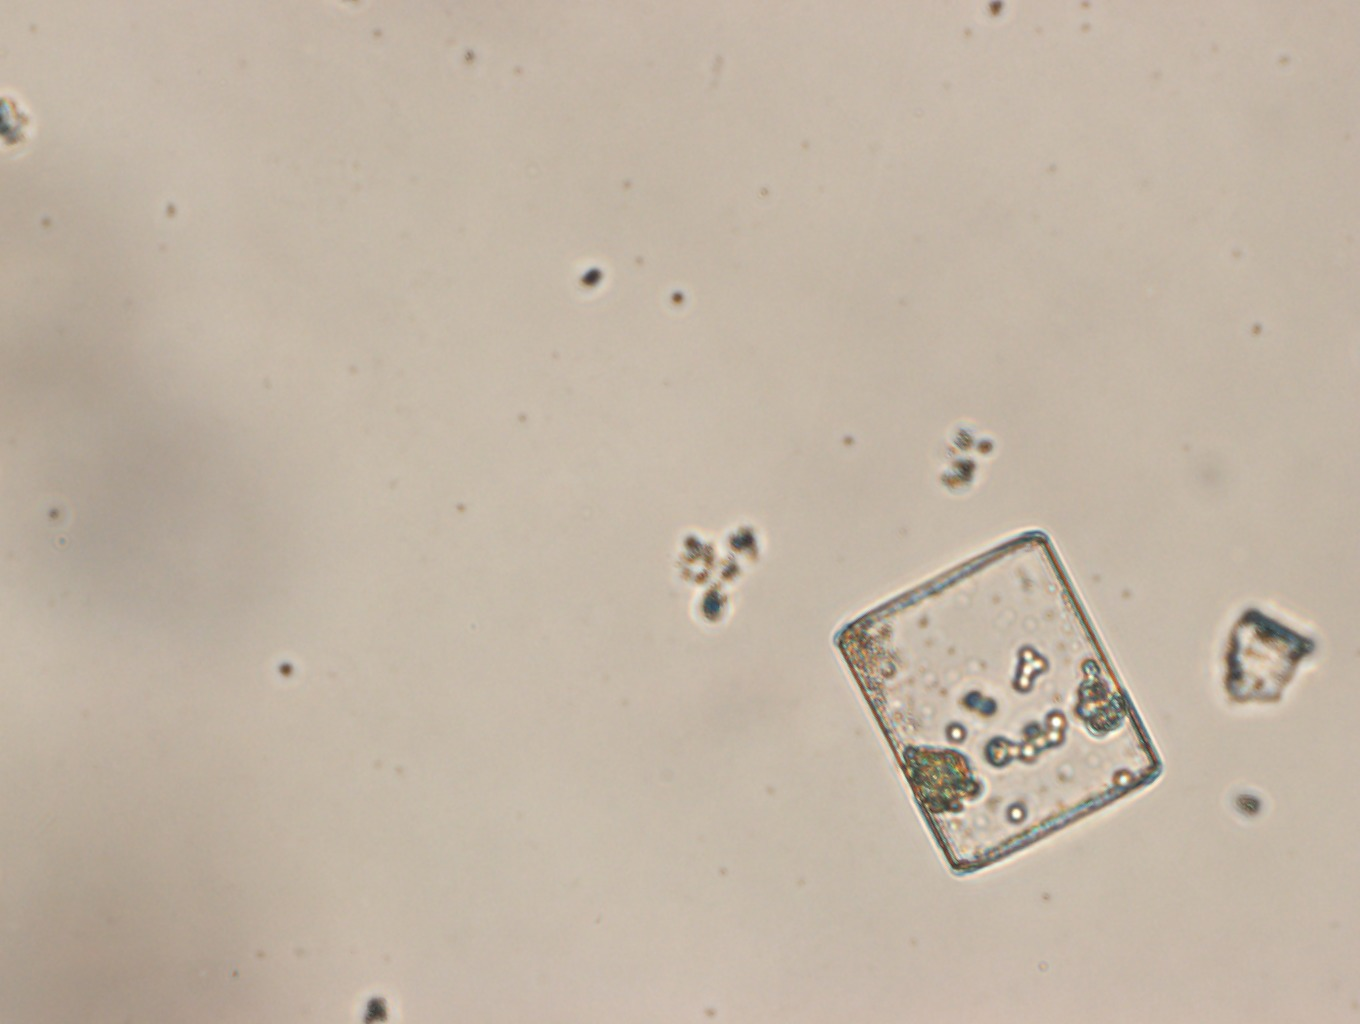guinardia flaccida: (829, 527, 1163, 877)
